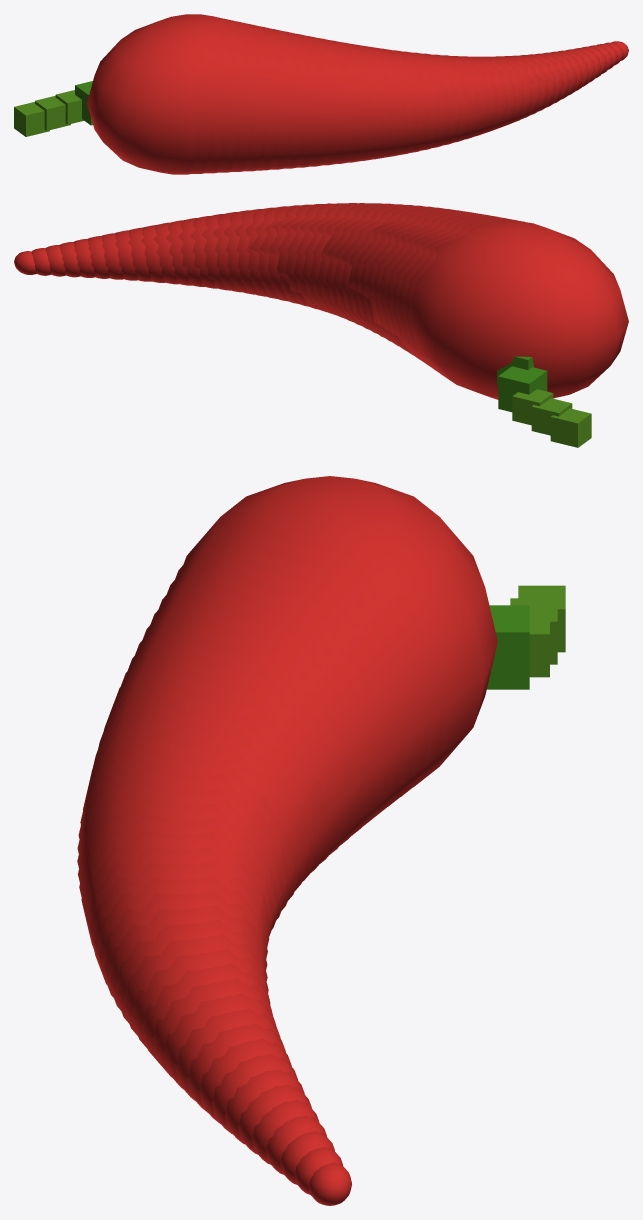
Rendered from CMU3DRedChiliPepper.glb.
The picture shows the model from 3 angles, top to bottom: view 1: azimuth 30°, elevation 25°; view 2: azimuth 150°, elevation 25°; view 3: azimuth 270°, elevation 25°; orthographic projection. The views are drawn at different scales.
Parts seen in each view (by area): view 1: curved pepper (×38), bent stalk tip (×3), green pepper stalk; view 2: curved pepper (×43), bent stalk tip (×3), green pepper stalk (×2); view 3: curved pepper (×43), green pepper stalk, bent stalk tip (×2).
Part boxes in pixels (box(x1,y1,x2,y2)): curved pepper (×38): box(87, 14, 601, 174); bent stalk tip (×3): box(14, 90, 83, 136); green pepper stalk: box(75, 81, 92, 125); curved pepper (×43): box(14, 203, 628, 399); bent stalk tip (×3): box(512, 389, 591, 447); green pepper stalk (×2): box(497, 356, 547, 412); curved pepper (×43): box(77, 476, 497, 1205); green pepper stalk: box(487, 605, 529, 689); bent stalk tip (×2): box(518, 585, 565, 677).
Bounding box in the file's own units: 0.6471 × 0.159 × 0.2466.
